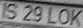2: (23, 4, 33, 24)
9: (34, 4, 43, 23)
I: (1, 1, 7, 22)
K: (70, 6, 83, 27)
L: (47, 4, 57, 25)
O: (58, 7, 69, 25)
S: (6, 2, 18, 19)
